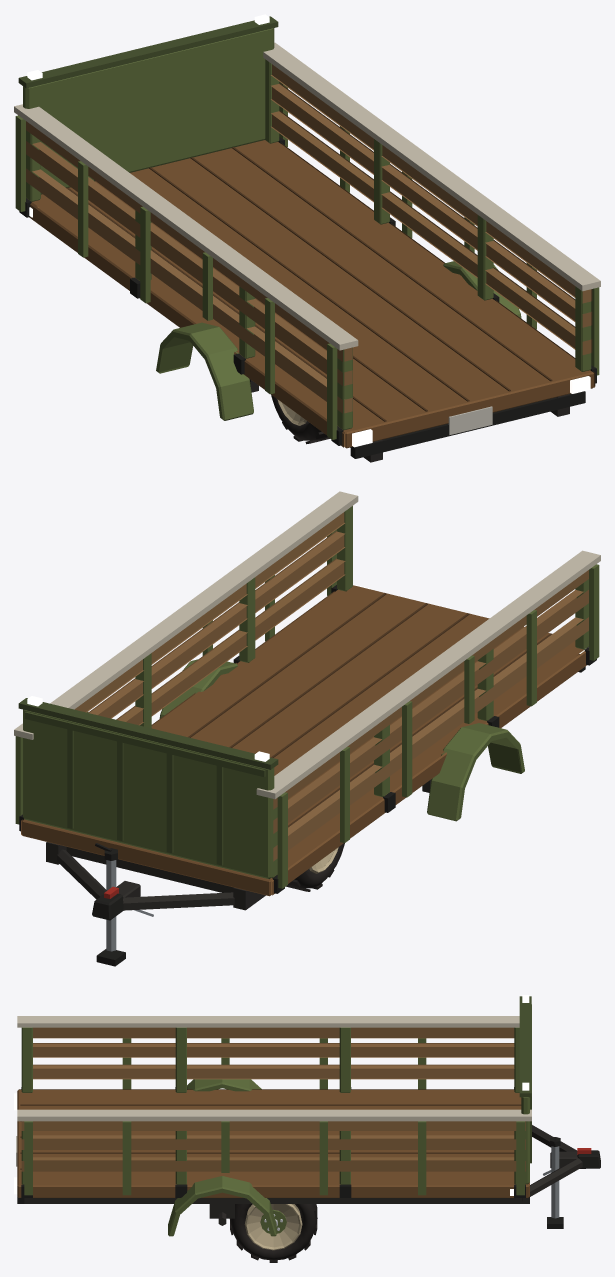
Rendered from RanchTrailer_Rustbucket.glb.
3 renders of one model, top to bottom at view 1: azimuth 30°, elevation 25°; view 2: azimuth 150°, elevation 25°; view 3: azimuth 270°, elevation 25°, orthographic. The views are drawn at different scales.
Visible parts, largest first — view 1: Bed, Body, Wheel, Lights; view 2: Bed, Body, Hitch, Wheel; view 3: Bed, Body, Wheel, Hitch.
Part boxes in pixels (bbox=[...]): Bed: bbox=[14, 16, 600, 448]; Body: bbox=[156, 261, 585, 462]; Wheel: bbox=[271, 394, 330, 444]; Lights: bbox=[27, 14, 590, 447]; Bed: bbox=[14, 491, 600, 896]; Body: bbox=[46, 659, 585, 910]; Hitch: bbox=[57, 843, 234, 966]; Wheel: bbox=[286, 843, 344, 891]; Bed: bbox=[17, 996, 531, 1197]; Body: bbox=[16, 1079, 529, 1236]; Wheel: bbox=[230, 1204, 317, 1262]; Hitch: bbox=[522, 1125, 600, 1228].
Bounding box in the file's own units: 9.79 × 8.52 × 20.84.
